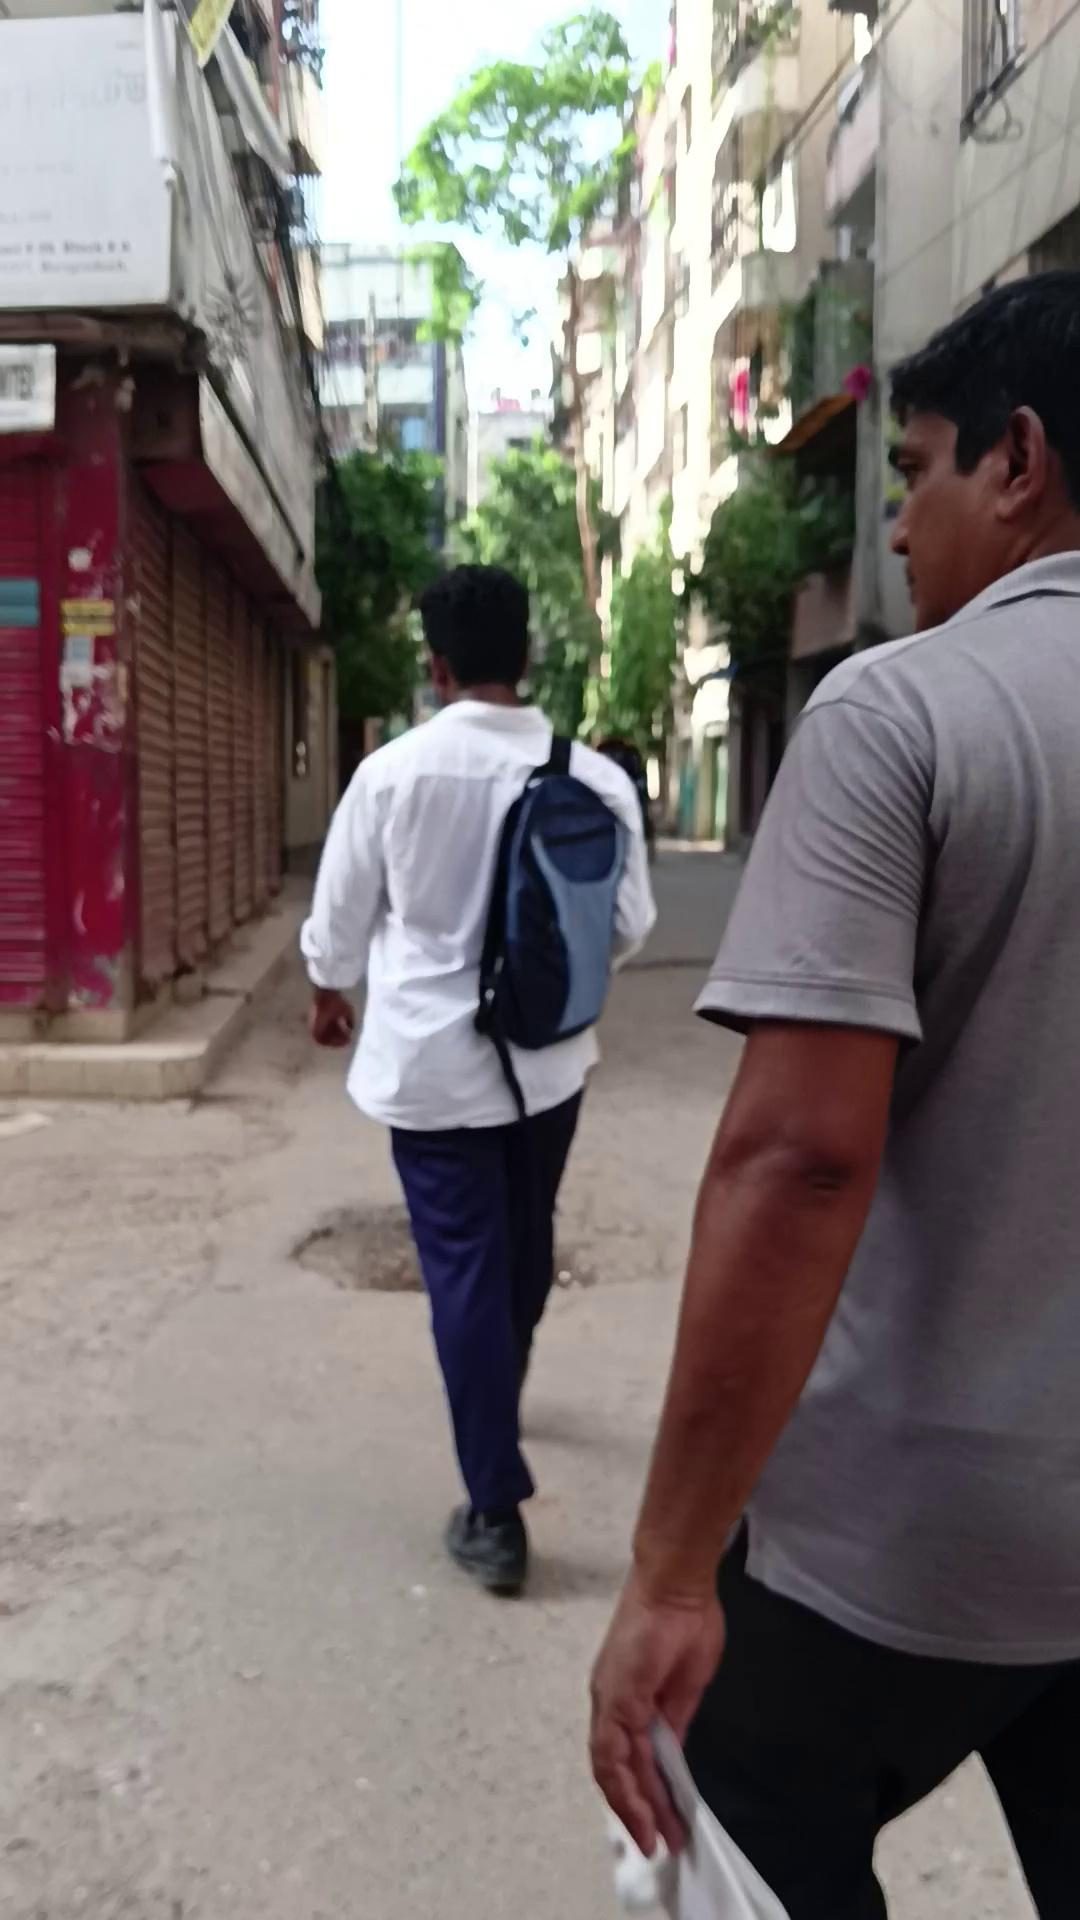Crosswalk: (1, 869, 314, 1102), (1, 981, 251, 1102), (0, 1039, 208, 1101)
Motorcycle: (1, 1, 334, 1091)
Muddy road: (585, 266, 1079, 1917), (298, 560, 658, 1596), (593, 735, 657, 862)
